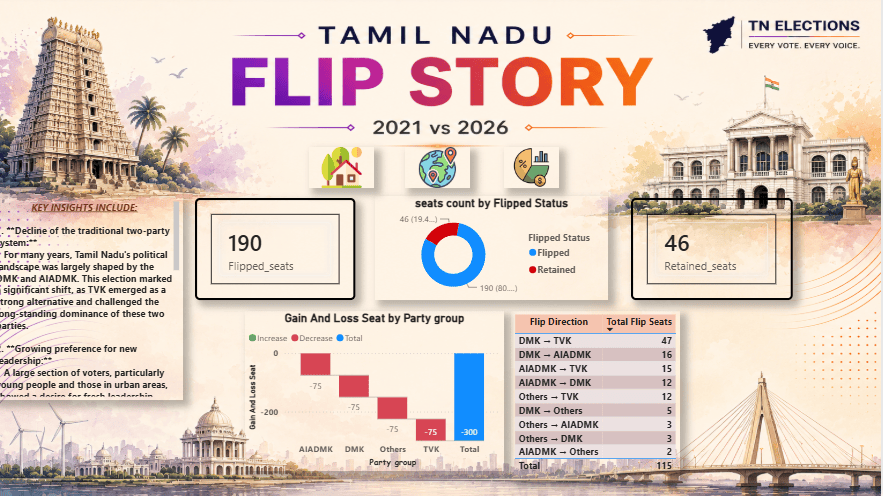

The dashboard page shown, as its layout file describes it:
{"tool":"powerbi","page":{"name":"Flip Story","canvas":[1280,720],"ordinal":2},"visuals":[{"type":"cardVisual","fields":{"Data":["Flip Table.Flipped_seats"]},"box":[291.4,291.4,231.4,147.1],"z":0},{"type":"cardVisual","fields":{"Data":["Flip Table.Retained_seats"]},"box":[918.6,291.4,232.9,147.1],"z":1000},{"type":"waterfallChart","fields":{"Category":["Winner Table.Party group"],"Y":["Winner Table.Gain And Loss Seat"]},"box":[362.9,454.3,372.9,230],"z":2000},{"type":"tableEx","fields":{"Values":["Flip Table.Flip Direction","Flip Table.Total Flip Seats"]},"box":[745.7,454.3,244.3,242.9],"z":3000},{"type":"donutChart","fields":{"Category":["Flip Table.Flipped Status"],"Y":["Flip Table.seats count"]},"box":[550,288.6,335.7,150],"z":4000},{"type":"textbox","box":[0,291.4,272.9,291.4],"z":5000},{"type":"image","box":[735.7,217.1,78.6,58.6],"z":7000},{"type":"image","box":[592.9,217.1,94.3,58.6],"z":8000},{"type":"image","box":[455.7,217.1,94.3,58.6],"z":9000}]}

Visuals, with their boxes in screenshot pixels (x1, y1, x2, y2), scaled from the page's 1280x720 canvas onto the 883x496 screenshot:
cardVisual - Flip Table.Flipped_seats: 201,201,361,302
cardVisual - Flip Table.Retained_seats: 634,201,794,302
waterfallChart - Winner Table.Party group x Winner Table.Gain And Loss Seat: 250,313,508,471
tableEx - Flip Table.Flip Direction x Flip Table.Total Flip Seats: 514,313,683,480
donutChart - Flip Table.Flipped Status x Flip Table.seats count: 379,199,611,302
textbox: 0,201,188,401
image: 508,150,562,190
image: 409,150,474,190
image: 314,150,379,190
